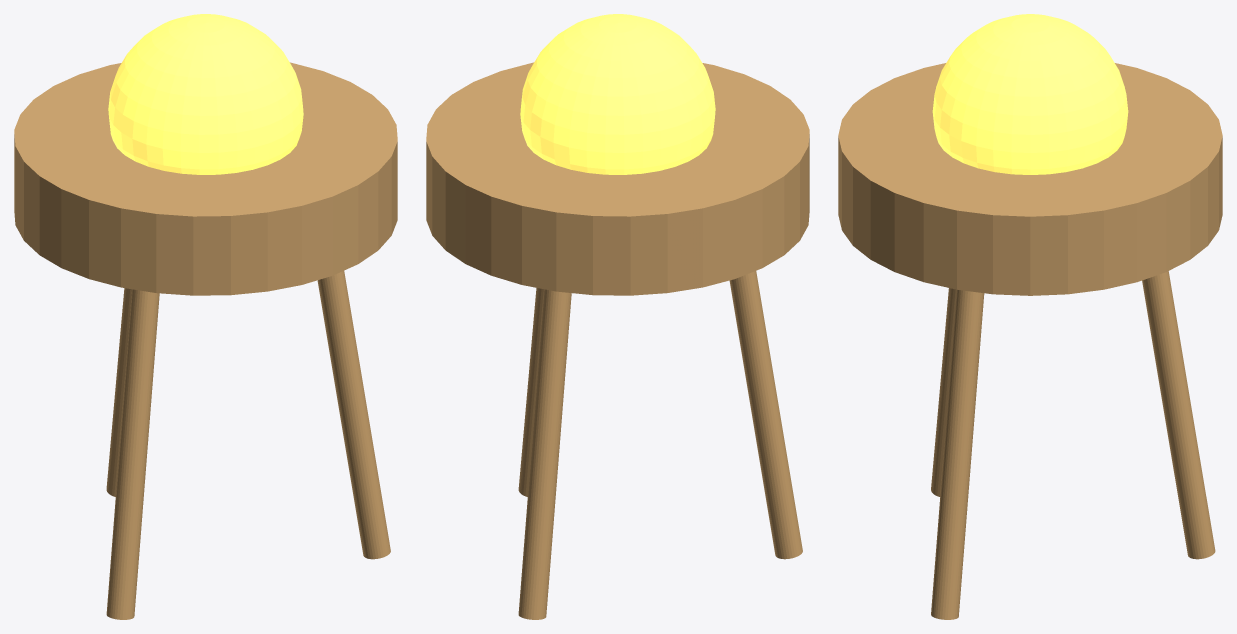
Rendered from temple_brazier.glb.
3 views of the same model, side by side, from view 1: azimuth 30°, elevation 25°; view 2: azimuth 150°, elevation 25°; view 3: azimuth 270°, elevation 25° (orthographic).
Visible parts, largest first — view 1: Sphere; view 2: Sphere; view 3: Sphere.
Boxes of the visible parts, x1=… form: Sphere: x1=14, y1=14, x2=397, y2=619; Sphere: x1=426, y1=14, x2=809, y2=619; Sphere: x1=838, y1=14, x2=1222, y2=619.
Size of the model in its own units: 1.1 by 1.68 by 1.1.
